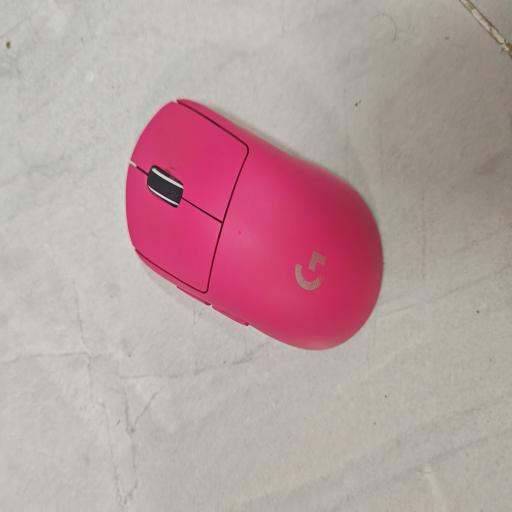mouse: (126, 100, 383, 349)
